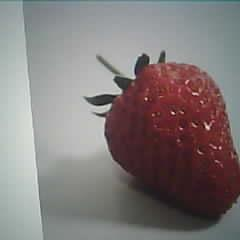straw-ripe: (105, 61, 240, 219)
